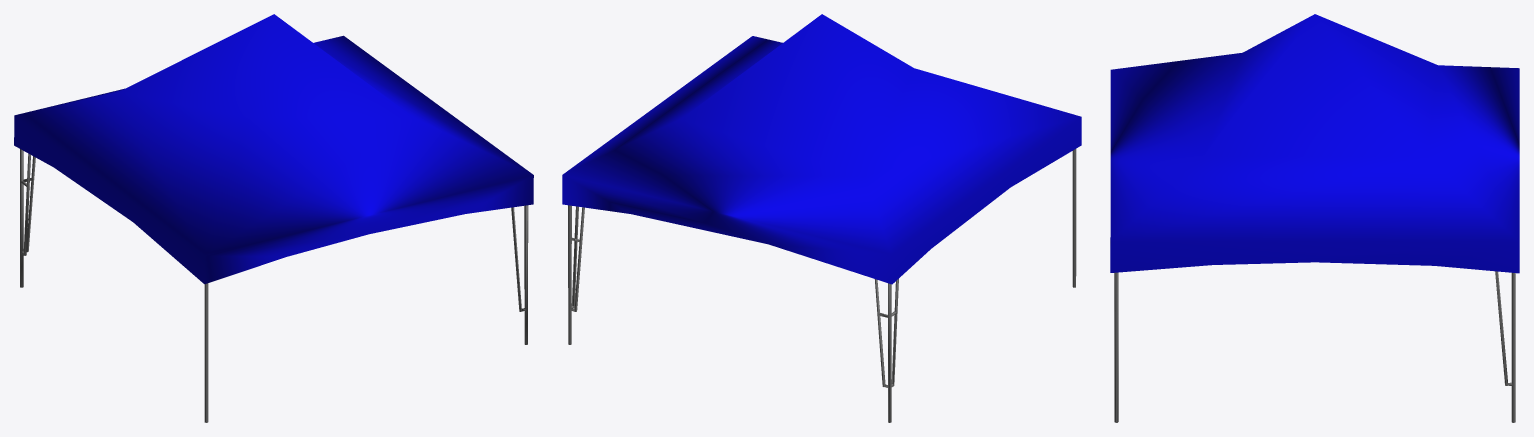
File: tent.fbx
The picture shows the model from 3 angles, left to right: view 1: azimuth 30°, elevation 25°; view 2: azimuth 150°, elevation 25°; view 3: azimuth 270°, elevation 25°; orthographic projection. The views are drawn at different scales.
Parts seen in each view (by area): view 1: Pole Ø 4 cm_012; view 2: Pole Ø 4 cm_012; view 3: Pole Ø 4 cm_012.
Boxes of the visible parts, x1=… form: Pole Ø 4 cm_012: x1=14, y1=14, x2=533, y2=422; Pole Ø 4 cm_012: x1=562, y1=14, x2=1081, y2=422; Pole Ø 4 cm_012: x1=1110, y1=14, x2=1519, y2=422.
Size of the model in its own units: 510 by 446 by 510.
